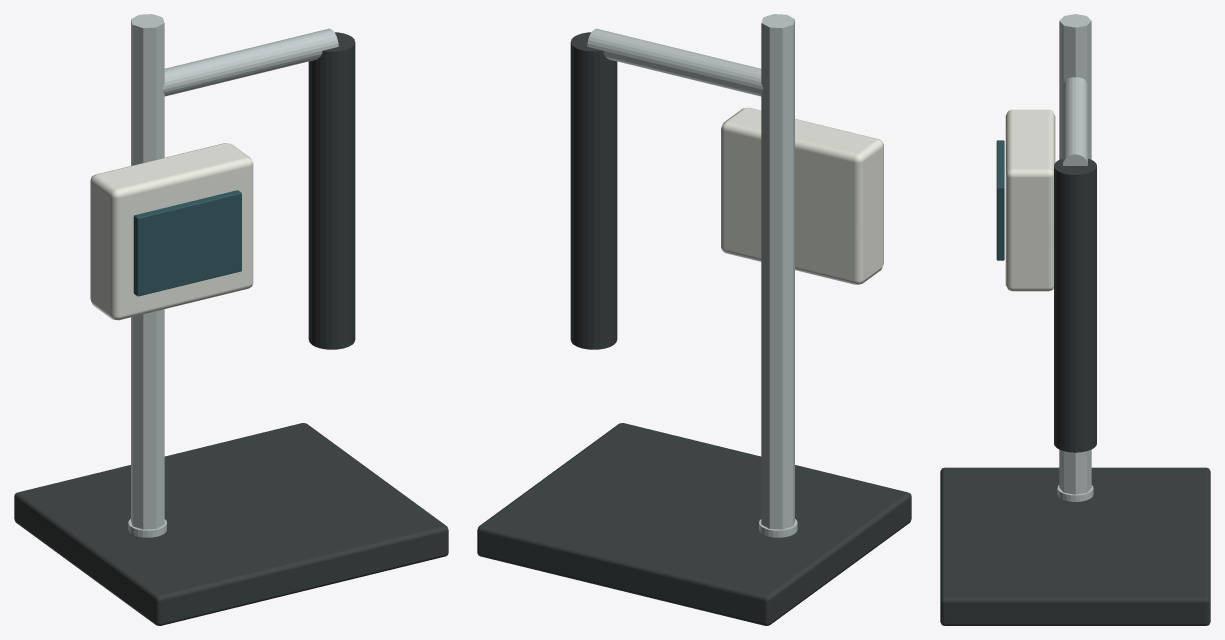
File: generation-ship-hydroponics-generation-ship-hydroponic-39d984a1__31484.glb
3 views of the same model, side by side, from view 1: azimuth 30°, elevation 25°; view 2: azimuth 150°, elevation 25°; view 3: azimuth 270°, elevation 25° (orthographic). The views are drawn at different scales.
Parts seen in each view (by area): view 1: generation-ship-hydroponics-ph-monitoring-probe-stand; view 2: generation-ship-hydroponics-ph-monitoring-probe-stand; view 3: generation-ship-hydroponics-ph-monitoring-probe-stand.
Part boxes in pixels (x1,y1,x2,y2): generation-ship-hydroponics-ph-monitoring-probe-stand: (14, 14, 448, 625); generation-ship-hydroponics-ph-monitoring-probe-stand: (477, 14, 911, 625); generation-ship-hydroponics-ph-monitoring-probe-stand: (940, 14, 1210, 625).
Bounding box in the file's own units: 0.36 × 0.615 × 0.3.
